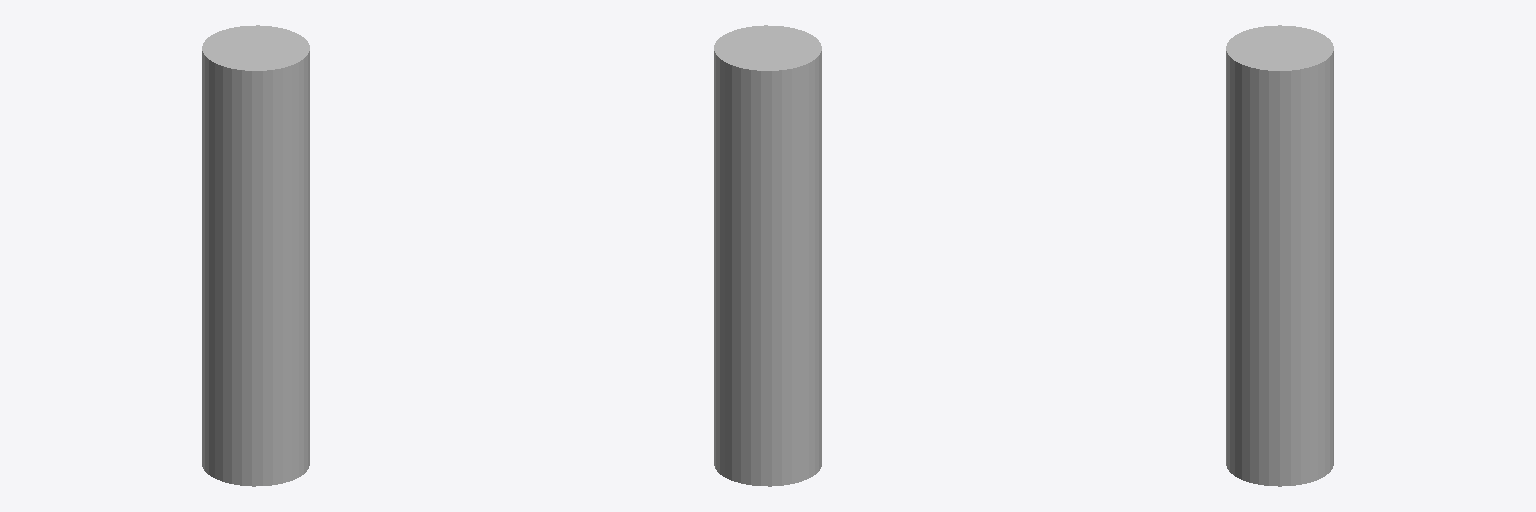
The model's file is leitoTestPythonScriptGerated.obj.
The picture shows the model from 3 angles: view 1: azimuth 30°, elevation 25°; view 2: azimuth 150°, elevation 25°; view 3: azimuth 270°, elevation 25°; orthographic projection.
Visible parts, largest first — view 1: Leito_Extracao_Externo, Tampa_Superior, Tampa_Inferior; view 2: Leito_Extracao_Externo, Tampa_Superior, Tampa_Inferior; view 3: Leito_Extracao_Externo, Tampa_Superior, Tampa_Inferior.
Part boxes in pixels (x1,y1,x2,y2): Leito_Extracao_Externo: (202,63,309,474); Tampa_Superior: (202,25,309,82); Tampa_Inferior: (202,455,309,486); Leito_Extracao_Externo: (714,63,821,474); Tampa_Superior: (714,25,821,82); Tampa_Inferior: (714,455,821,486); Leito_Extracao_Externo: (1226,62,1333,474); Tampa_Superior: (1226,25,1333,82); Tampa_Inferior: (1226,454,1333,486).
Bounding box in the file's own units: 0.025 × 0.106 × 0.025.